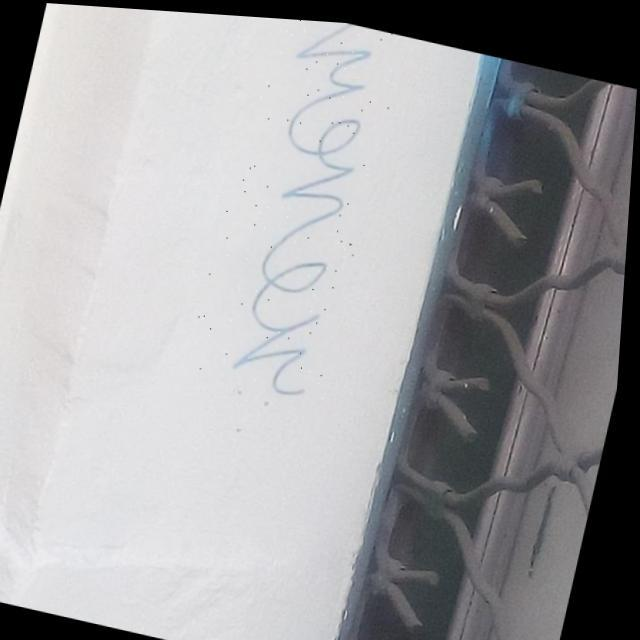-: (189, 11, 405, 403)
